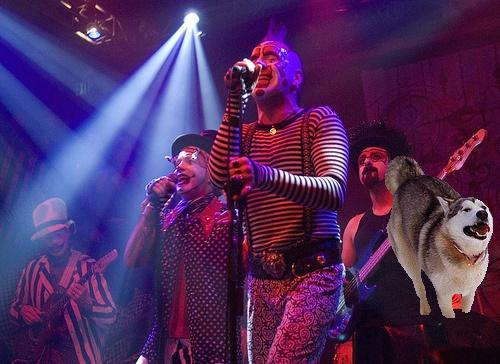tampered: (386, 157, 493, 318)
